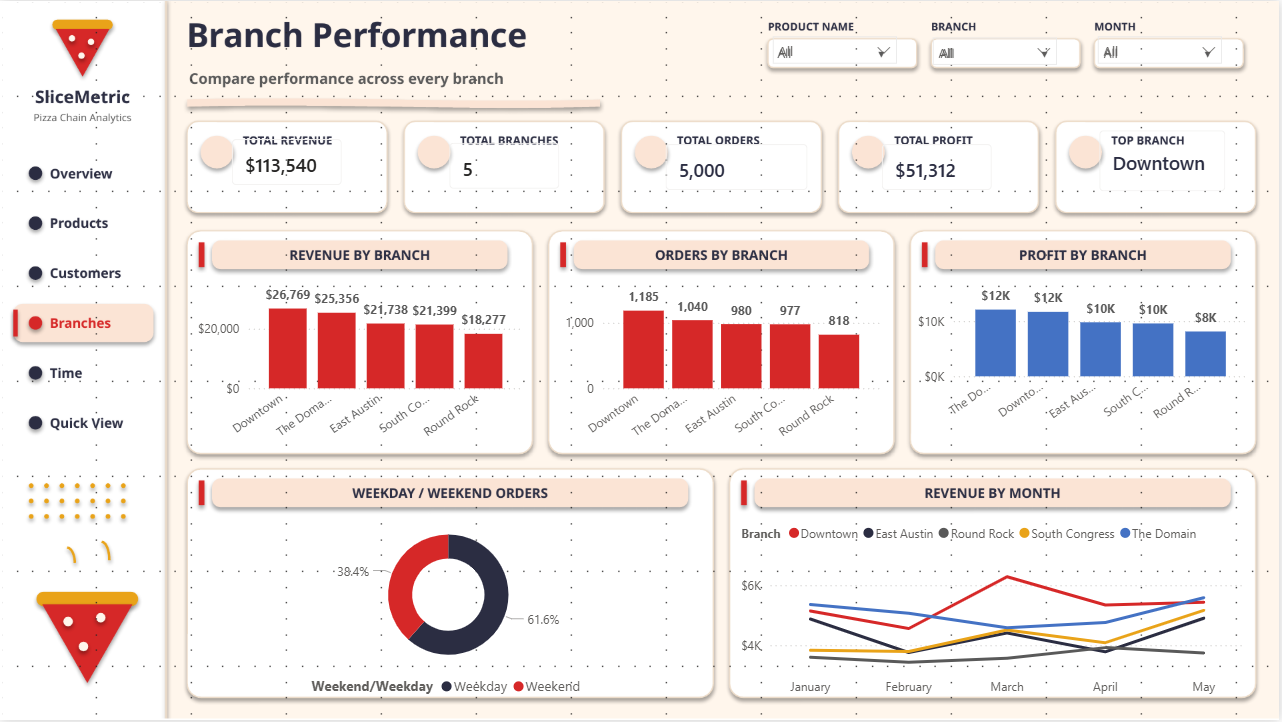

The dashboard page shown, as its layout file describes it:
{"tool":"powerbi","page":{"name":"Branch Performance","canvas":[1280,720],"ordinal":4},"visuals":[{"type":"cardVisual","fields":{"Data":["_Measures.Total Sales"]},"box":[215,121,144,80],"z":0},{"type":"cardVisual","fields":{"Data":["_Measures.Total Branches"]},"box":[432,125,144,80],"z":1000},{"type":"cardVisual","fields":{"Data":["_Measures.Total Orders"]},"box":[649,126,176,80],"z":2000},{"type":"cardVisual","fields":{"Data":["_Measures.Total Profit"]},"box":[865,126,144,80],"z":3000},{"type":"cardVisual","fields":{"Data":["_Measures.Top Branch"]},"box":[1083,112,160,96],"z":4000},{"type":"clusteredColumnChart","fields":{"Category":["Orders.Branch"],"Y":["_Measures.Total Sales"]},"box":[192,272,336,176],"z":5000},{"type":"clusteredColumnChart","fields":{"Category":["Orders.Branch"],"Y":["_Measures.Total Orders"]},"box":[560,272,320,176],"z":6000},{"type":"donutChart","fields":{"Y":["_Measures.Total Orders"],"Category":["Orders.Weekend/Weekday"]},"box":[192,512,512,192],"z":7000},{"type":"lineChart","fields":{"Category":["Date.Month"],"Y":["_Measures.Total Sales"],"Series":["Orders.Branch"]},"box":[736,512,512,192],"z":8000},{"type":"slicer","fields":{"Values":["Orders.Product Name"]},"box":[762,25,144,80],"z":9000},{"type":"slicer","fields":{"Values":["Orders.Branch"]},"box":[923,26,144,80],"z":10000},{"type":"slicer","fields":{"Values":["Date.Month"]},"box":[1088,25,144,80],"z":11000},{"type":"clusteredColumnChart","fields":{"Category":["Orders.Branch"],"Y":["_Measures.Total Profit"]},"box":[912,272,336,160],"z":12000},{"type":"actionButton","box":[0,160,144,32],"z":13000},{"type":"actionButton","box":[0,208,144,32],"z":14000},{"type":"actionButton","box":[16,256,144,32],"z":15000},{"type":"actionButton","box":[16,360,146,28],"z":16000},{"type":"actionButton","box":[16,400,144,32],"z":17000}]}

Visuals, with their boxes on the page's 1280x720 design canvas (x1, y1, x2, y2). These are canvas units, not pixel positions in the 1282x722 screenshot, which may show the page scaled, cropped or inside an application window:
cardVisual - _Measures.Total Sales: locate(215, 121, 359, 201)
cardVisual - _Measures.Total Branches: locate(432, 125, 576, 205)
cardVisual - _Measures.Total Orders: locate(649, 126, 825, 206)
cardVisual - _Measures.Total Profit: locate(865, 126, 1009, 206)
cardVisual - _Measures.Top Branch: locate(1083, 112, 1243, 208)
clusteredColumnChart - Orders.Branch x _Measures.Total Sales: locate(192, 272, 528, 448)
clusteredColumnChart - Orders.Branch x _Measures.Total Orders: locate(560, 272, 880, 448)
donutChart - _Measures.Total Orders x Orders.Weekend/Weekday: locate(192, 512, 704, 704)
lineChart - Date.Month x _Measures.Total Sales: locate(736, 512, 1248, 704)
slicer - Orders.Product Name: locate(762, 25, 906, 105)
slicer - Orders.Branch: locate(923, 26, 1067, 106)
slicer - Date.Month: locate(1088, 25, 1232, 105)
clusteredColumnChart - Orders.Branch x _Measures.Total Profit: locate(912, 272, 1248, 432)
actionButton: locate(0, 160, 144, 192)
actionButton: locate(0, 208, 144, 240)
actionButton: locate(16, 256, 160, 288)
actionButton: locate(16, 360, 162, 388)
actionButton: locate(16, 400, 160, 432)
